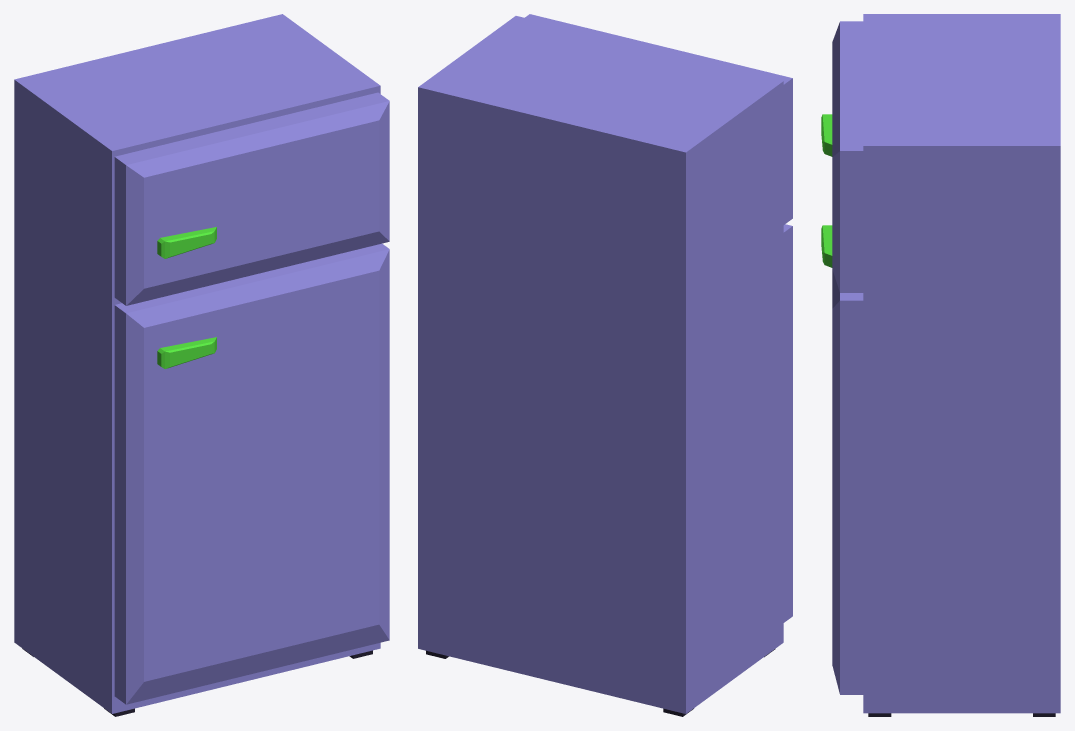
File: fridge.fbx
3 renders of one model, left to right at view 1: azimuth 30°, elevation 25°; view 2: azimuth 150°, elevation 25°; view 3: azimuth 270°, elevation 25°, orthographic.
Visible parts, largest first — view 1: lower door, fridge body, small door, handle, handle.001; view 2: fridge body, lower door, small door; view 3: fridge body, lower door, small door, handle, handle.001.
Part boxes in pixels (x1=…): lower door: x1=114, y1=243, x2=389, y2=704; fridge body: x1=14, y1=14, x2=380, y2=713; small door: x1=114, y1=92, x2=389, y2=305; handle: x1=157, y1=337, x2=216, y2=368; handle.001: x1=157, y1=227, x2=216, y2=258; fridge body: x1=418, y1=16, x2=783, y2=713; lower door: x1=783, y1=224, x2=792, y2=622; small door: x1=525, y1=14, x2=792, y2=224; fridge body: x1=863, y1=14, x2=1060, y2=713; lower door: x1=832, y1=270, x2=863, y2=694; small door: x1=832, y1=21, x2=863, y2=292; handle: x1=821, y1=225, x2=832, y2=267; handle.001: x1=821, y1=114, x2=832, y2=156.
Size of the model in its own units: 193 by 390 by 148.
